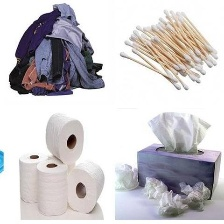tissue: (144, 108, 215, 156), (62, 157, 108, 217), (42, 107, 88, 167), (33, 156, 72, 218), (15, 148, 50, 205), (175, 177, 214, 214), (153, 187, 193, 220), (114, 159, 142, 193), (140, 173, 172, 202)
